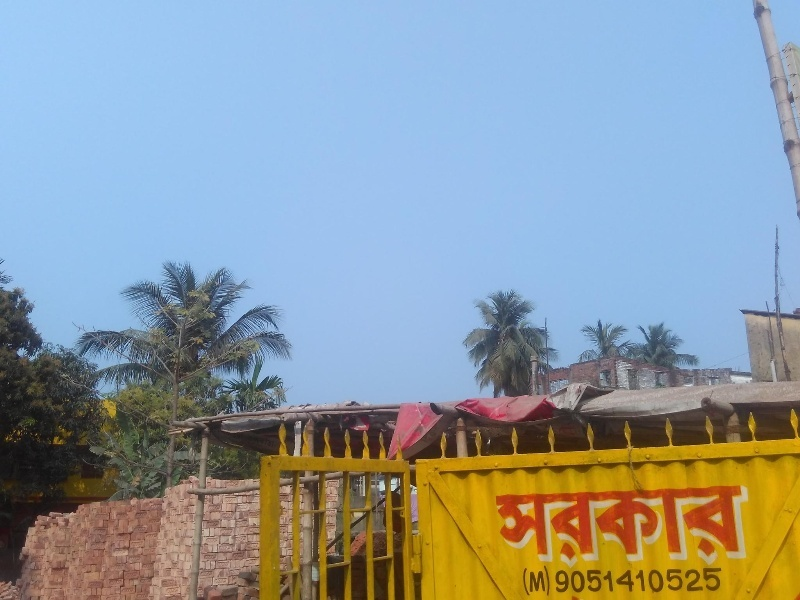text: (497, 484, 512, 566), (513, 484, 528, 566), (529, 484, 544, 566), (545, 484, 560, 566), (561, 484, 576, 566), (577, 484, 592, 566), (593, 484, 608, 566), (609, 484, 624, 566), (625, 484, 640, 566), (641, 484, 656, 566), (657, 484, 672, 566), (673, 484, 688, 566), (689, 484, 704, 566), (705, 484, 720, 566), (721, 484, 736, 566), (737, 484, 752, 566), (529, 565, 544, 597), (561, 568, 576, 594), (577, 568, 592, 594), (593, 568, 608, 594), (609, 568, 624, 594), (625, 568, 640, 594), (641, 568, 656, 594), (657, 568, 672, 594), (673, 568, 688, 594), (689, 568, 704, 594), (705, 568, 720, 594), (545, 565, 551, 597), (753, 484, 755, 566), (524, 565, 528, 597), (556, 568, 560, 594), (721, 568, 725, 594)
